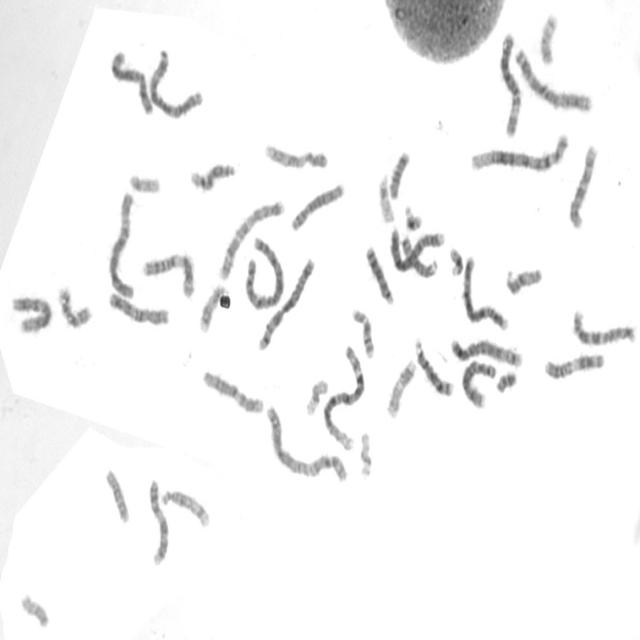A1: (320, 338, 367, 453), (468, 127, 572, 176)
A2: (264, 399, 350, 485), (242, 231, 286, 312)
A3: (512, 42, 595, 114), (146, 44, 206, 120)
B4: (460, 250, 511, 332), (388, 222, 444, 276)
B5: (256, 251, 317, 353), (448, 333, 525, 369)
C10: (566, 138, 600, 231), (106, 287, 172, 328)
C11: (139, 246, 198, 300), (541, 348, 607, 382)
C12: (200, 365, 266, 416), (9, 290, 54, 335)
C6: (106, 186, 138, 302), (498, 25, 524, 139)
C7: (216, 194, 288, 283), (570, 304, 638, 348)
C8: (289, 177, 347, 233), (460, 356, 498, 409)
C9: (263, 138, 330, 172), (146, 474, 170, 568)
D13: (412, 333, 456, 399), (363, 240, 396, 306)
D14: (158, 484, 212, 530), (188, 158, 238, 192)
D15: (400, 238, 439, 282), (503, 262, 545, 297)
E16: (55, 280, 95, 330), (349, 302, 377, 360)
E17: (384, 354, 418, 421), (197, 280, 229, 335)
E18: (103, 464, 131, 524), (387, 145, 412, 201)
F19: (303, 374, 330, 418), (357, 425, 374, 479)
F20: (18, 587, 52, 630), (537, 7, 561, 67)
G21: (446, 242, 466, 278), (402, 200, 424, 232)
G22: (376, 168, 397, 224), (126, 168, 162, 195)
X: (108, 44, 156, 117)
Y: (494, 366, 519, 394)
